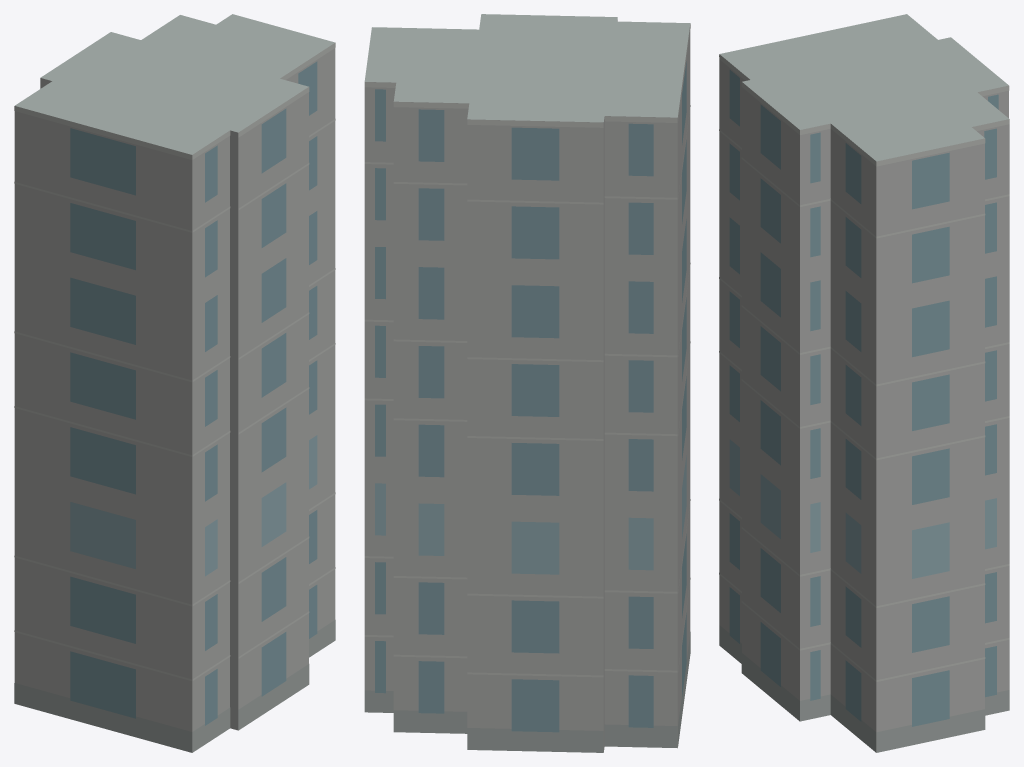
Rendered from survey-upis-32653707.glb.
3 renders of one model, left to right at view 1: azimuth 30°, elevation 25°; view 2: azimuth 150°, elevation 25°; view 3: azimuth 270°, elevation 25°, orthographic. The views are drawn at different scales.
Parts seen in each view (by area): view 1: survey-upis-32653707.tmp; view 2: survey-upis-32653707.tmp; view 3: survey-upis-32653707.tmp.
Part boxes in pixels (left/top/right/bottom): survey-upis-32653707.tmp: left=14, top=14, right=335, bottom=752; survey-upis-32653707.tmp: left=364, top=14, right=690, bottom=752; survey-upis-32653707.tmp: left=719, top=14, right=1009, bottom=752.
Size of the model in its own units: 15.08 by 28.15 by 12.54.
